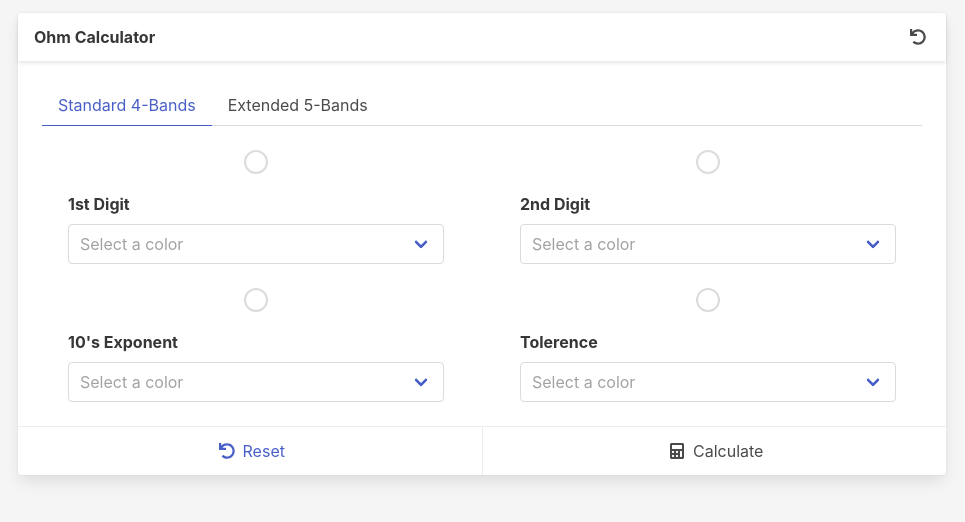
Test: help message is shown if an invalid field colors is returned
The width and height of the screenshot is (965, 522).
Select "black" in the dropdown labelled "1st Digit" at coordinates (256, 244), box [68, 224, 444, 264]
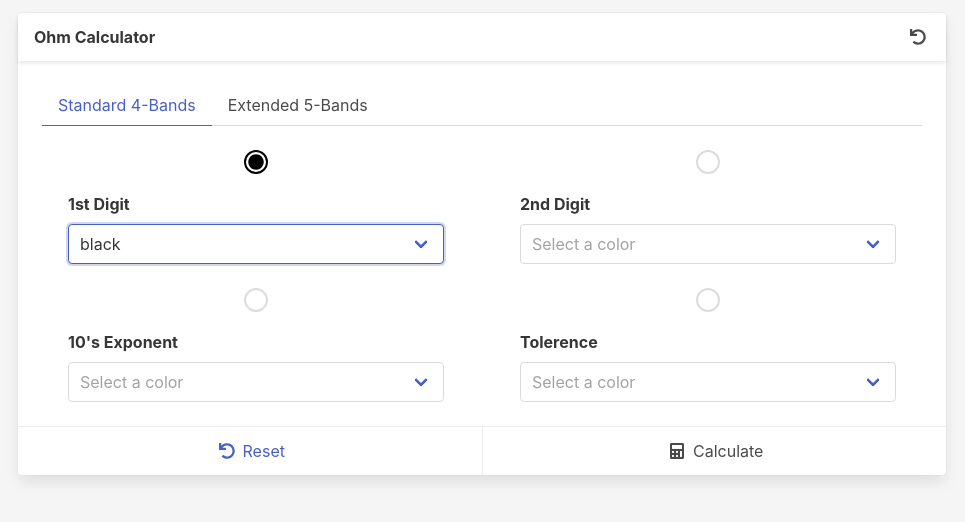
Select "black" in the dropdown labelled "2nd Digit" at coordinates (708, 244), box [520, 224, 896, 264]
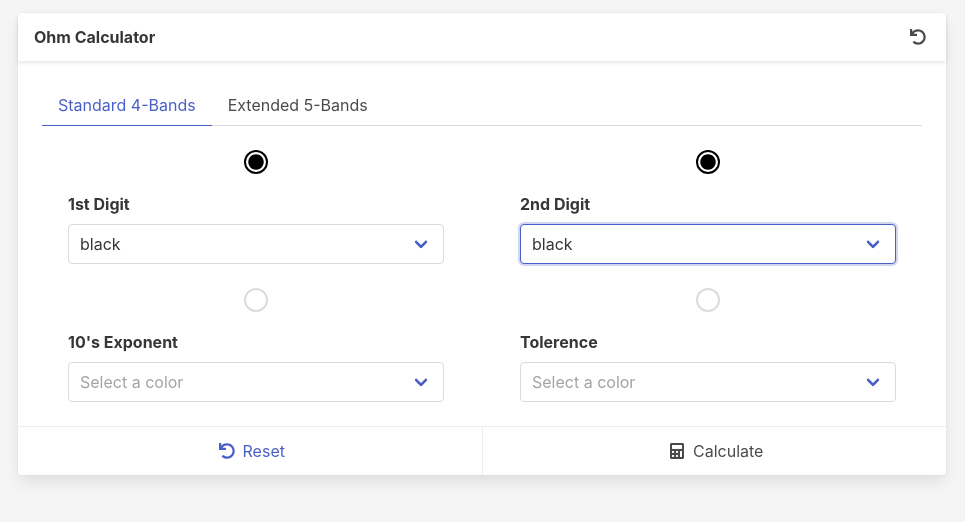
Select "black" in the dropdown labelled "10's Exponent" at coordinates (256, 382), box [68, 362, 444, 402]
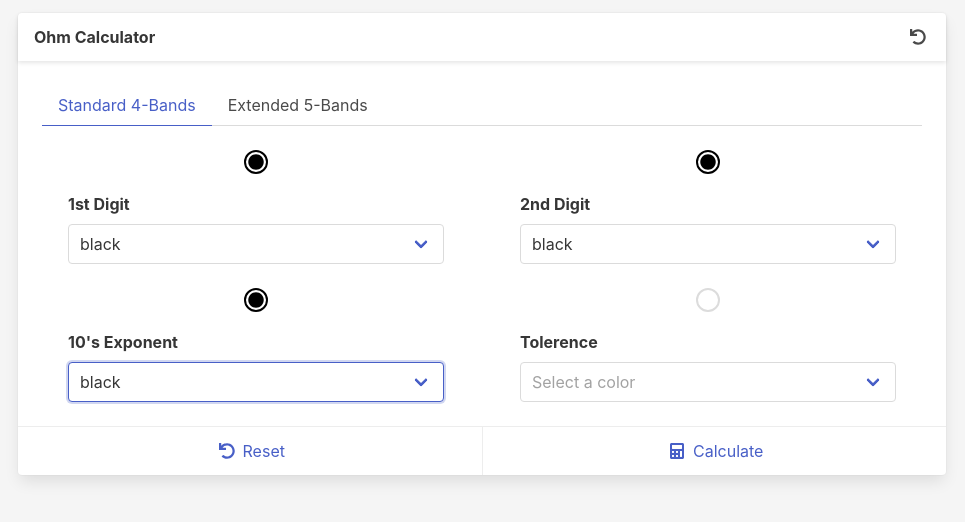
Click the button with test id "calculate-buton" at coordinates (717, 451), box [670, 441, 763, 461]
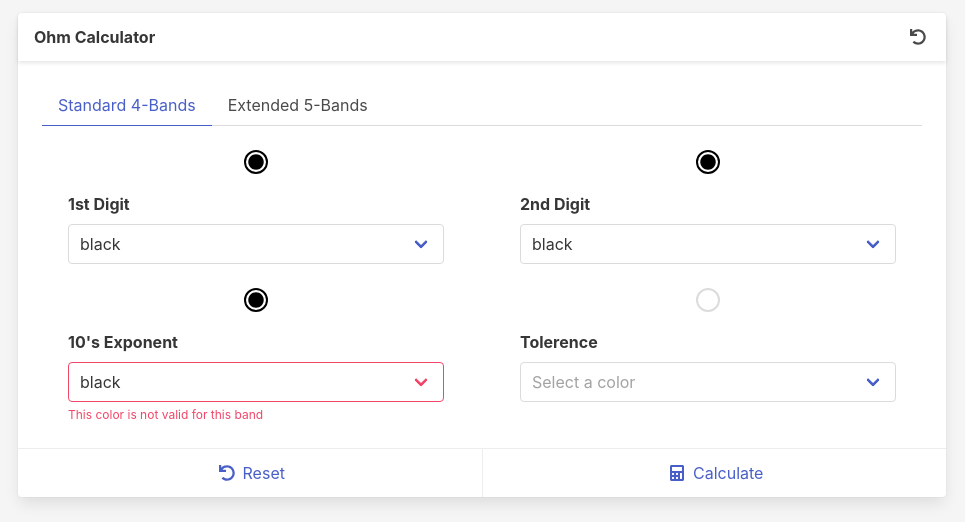
expect the text "This color is not valid for this band" is shown: met, box [68, 407, 263, 422]
